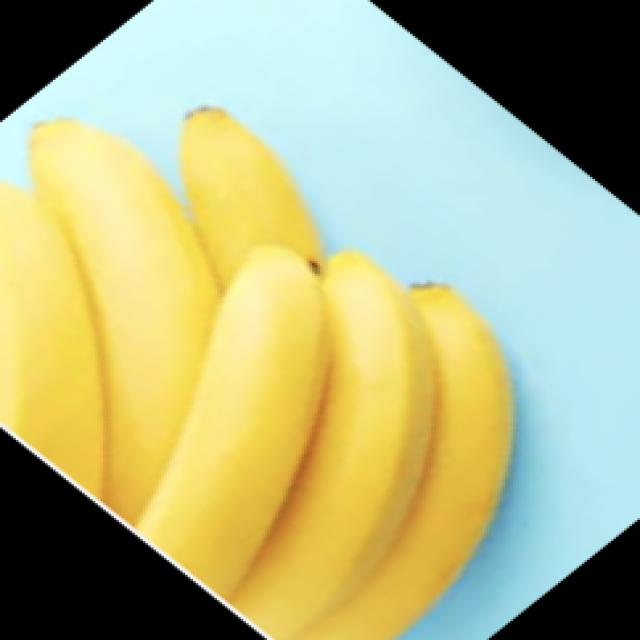god quality banana: (3, 109, 513, 640)
